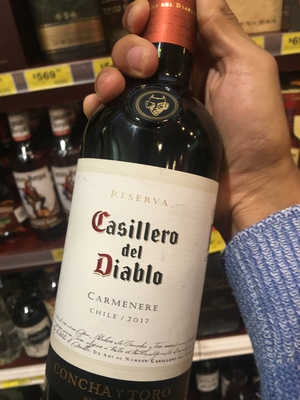casillero del diablo carmenere: (49, 16, 222, 400)
